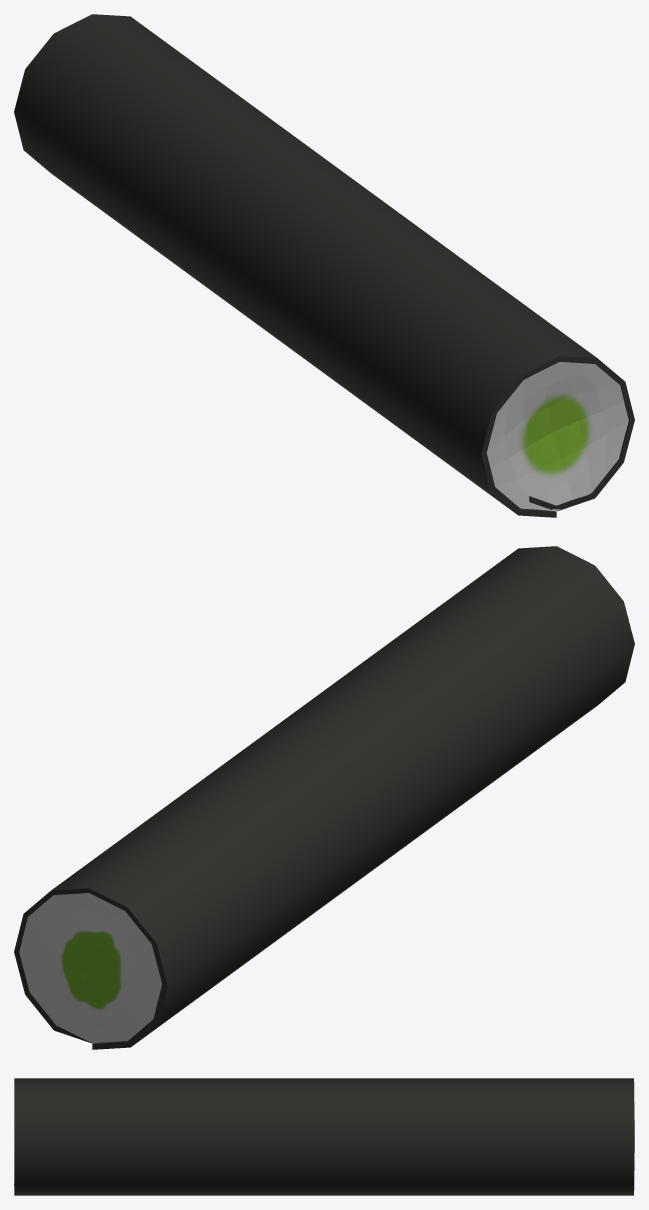
Rendered from Salatalık Hosomaki uzun.fbx.
3 views of the same model, one above another, from view 1: azimuth 30°, elevation 25°; view 2: azimuth 150°, elevation 25°; view 3: azimuth 270°, elevation 25° (orthographic). The views are drawn at different scales.
Visible parts, largest first — view 1: Salatalık Hosomakiuzun; view 2: Salatalık Hosomakiuzun; view 3: Salatalık Hosomakiuzun.
Boxes of the visible parts, bbox=[...] form: Salatalık Hosomakiuzun: bbox=[14, 14, 634, 517]; Salatalık Hosomakiuzun: bbox=[14, 546, 634, 1049]; Salatalık Hosomakiuzun: bbox=[14, 1078, 634, 1195].
Bounding box in the file's own units: 191 × 191 × 1006.
